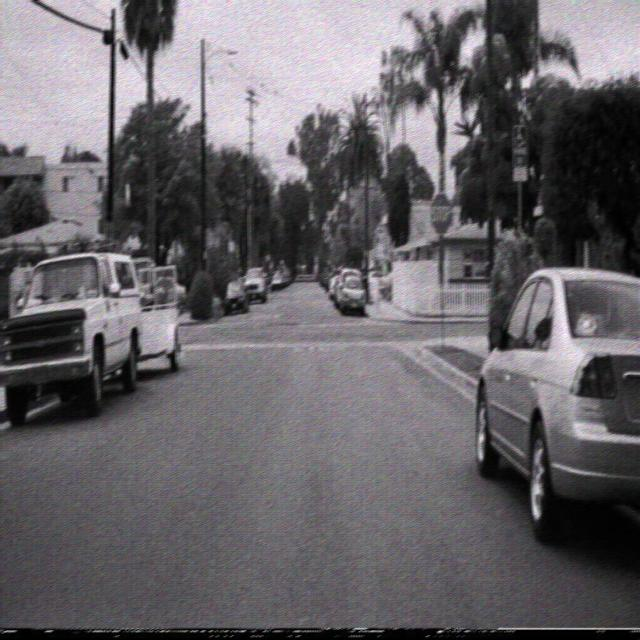stop: (429, 190, 452, 235)
